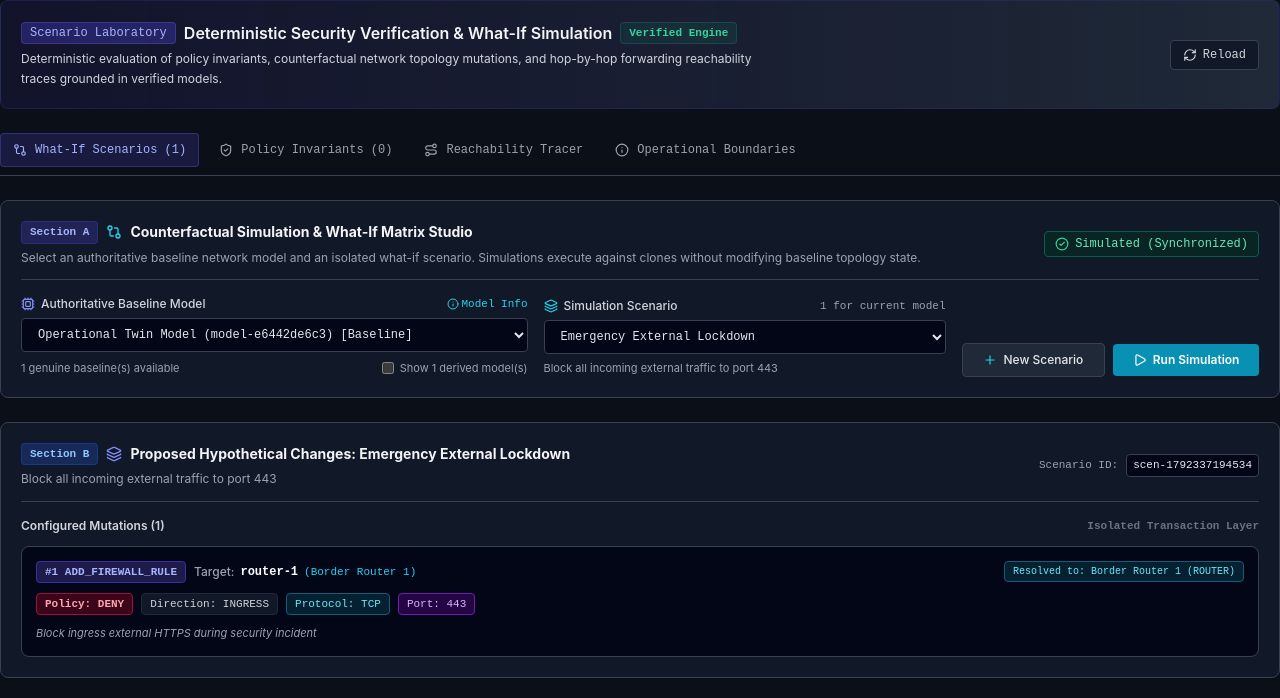
Test: ScenarioLaboratoryView & Counterfactual Workstation Redesign › labels cached stored results as HISTORICAL RECORD and marks live run as LIVE
The image size is (1280, 698).
Step 1. Click the button "Run Simulation" → (1186, 360), box [1113,344,1259,376]
(page scrolled)
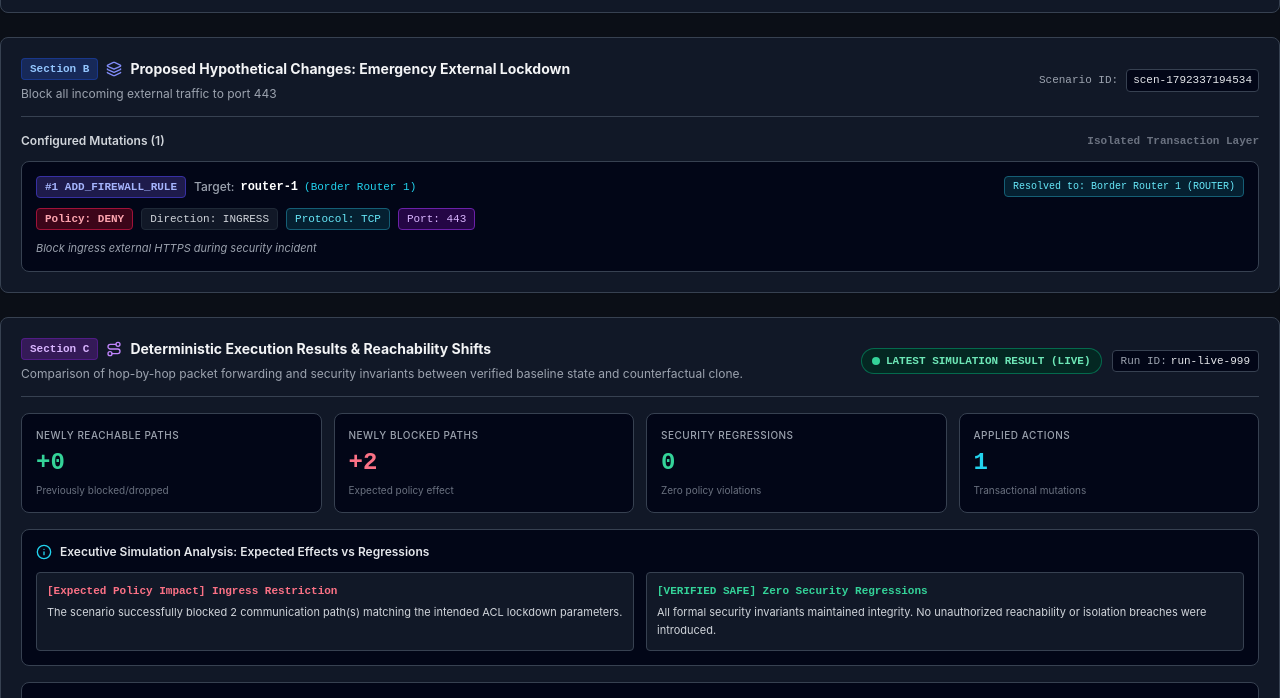
Result: the text "LATEST SIMULATION RESULT (LIVE)" is shown at [886,352,1090,368]
